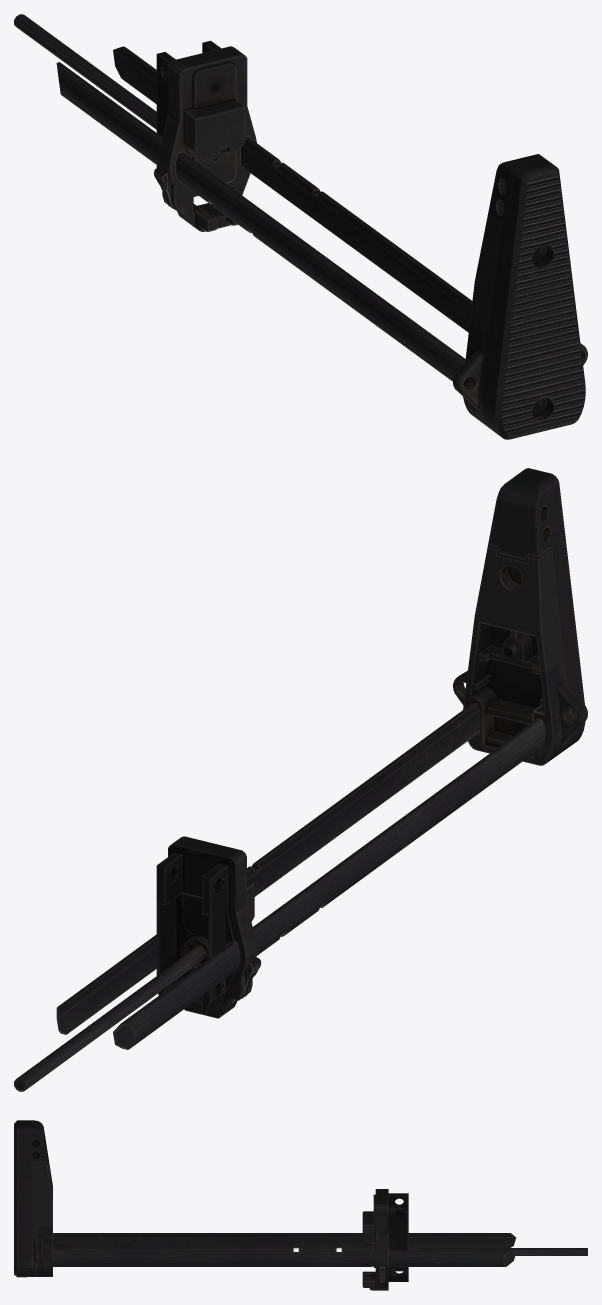
3 renders of one model, top to bottom at view 1: azimuth 30°, elevation 25°; view 2: azimuth 150°, elevation 25°; view 3: azimuth 270°, elevation 25°, orthographic. The views are drawn at different scales.
Parts seen in each view (by area): view 1: TW_5bcf0213d4351e0085327c17_PZ_Import; view 2: TW_5bcf0213d4351e0085327c17_PZ_Import; view 3: TW_5bcf0213d4351e0085327c17_PZ_Import.
Part boxes in pixels (bbox=[...]): TW_5bcf0213d4351e0085327c17_PZ_Import: bbox=[14, 14, 587, 439]; TW_5bcf0213d4351e0085327c17_PZ_Import: bbox=[14, 468, 587, 1091]; TW_5bcf0213d4351e0085327c17_PZ_Import: bbox=[14, 1120, 587, 1290].
Bounding box in the file's own units: 0.0335 × 0.2327 × 0.0726.
1 material, 1 textured.
